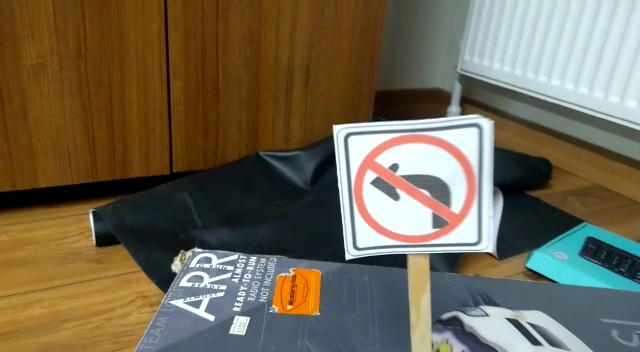sola_donulmez: (349, 123, 486, 251)
